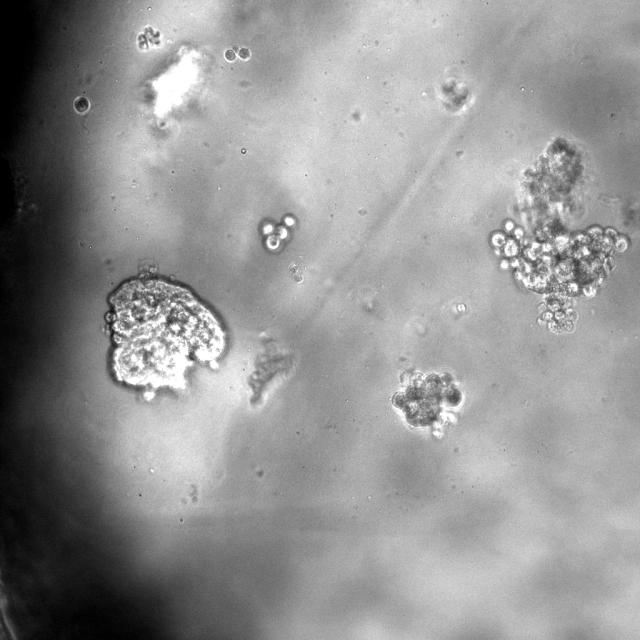organoid: (490, 138, 630, 333), (105, 262, 229, 400), (391, 370, 463, 438), (248, 339, 293, 404), (259, 214, 297, 253), (436, 76, 473, 112), (137, 25, 162, 50), (224, 46, 251, 62), (73, 96, 89, 115)
